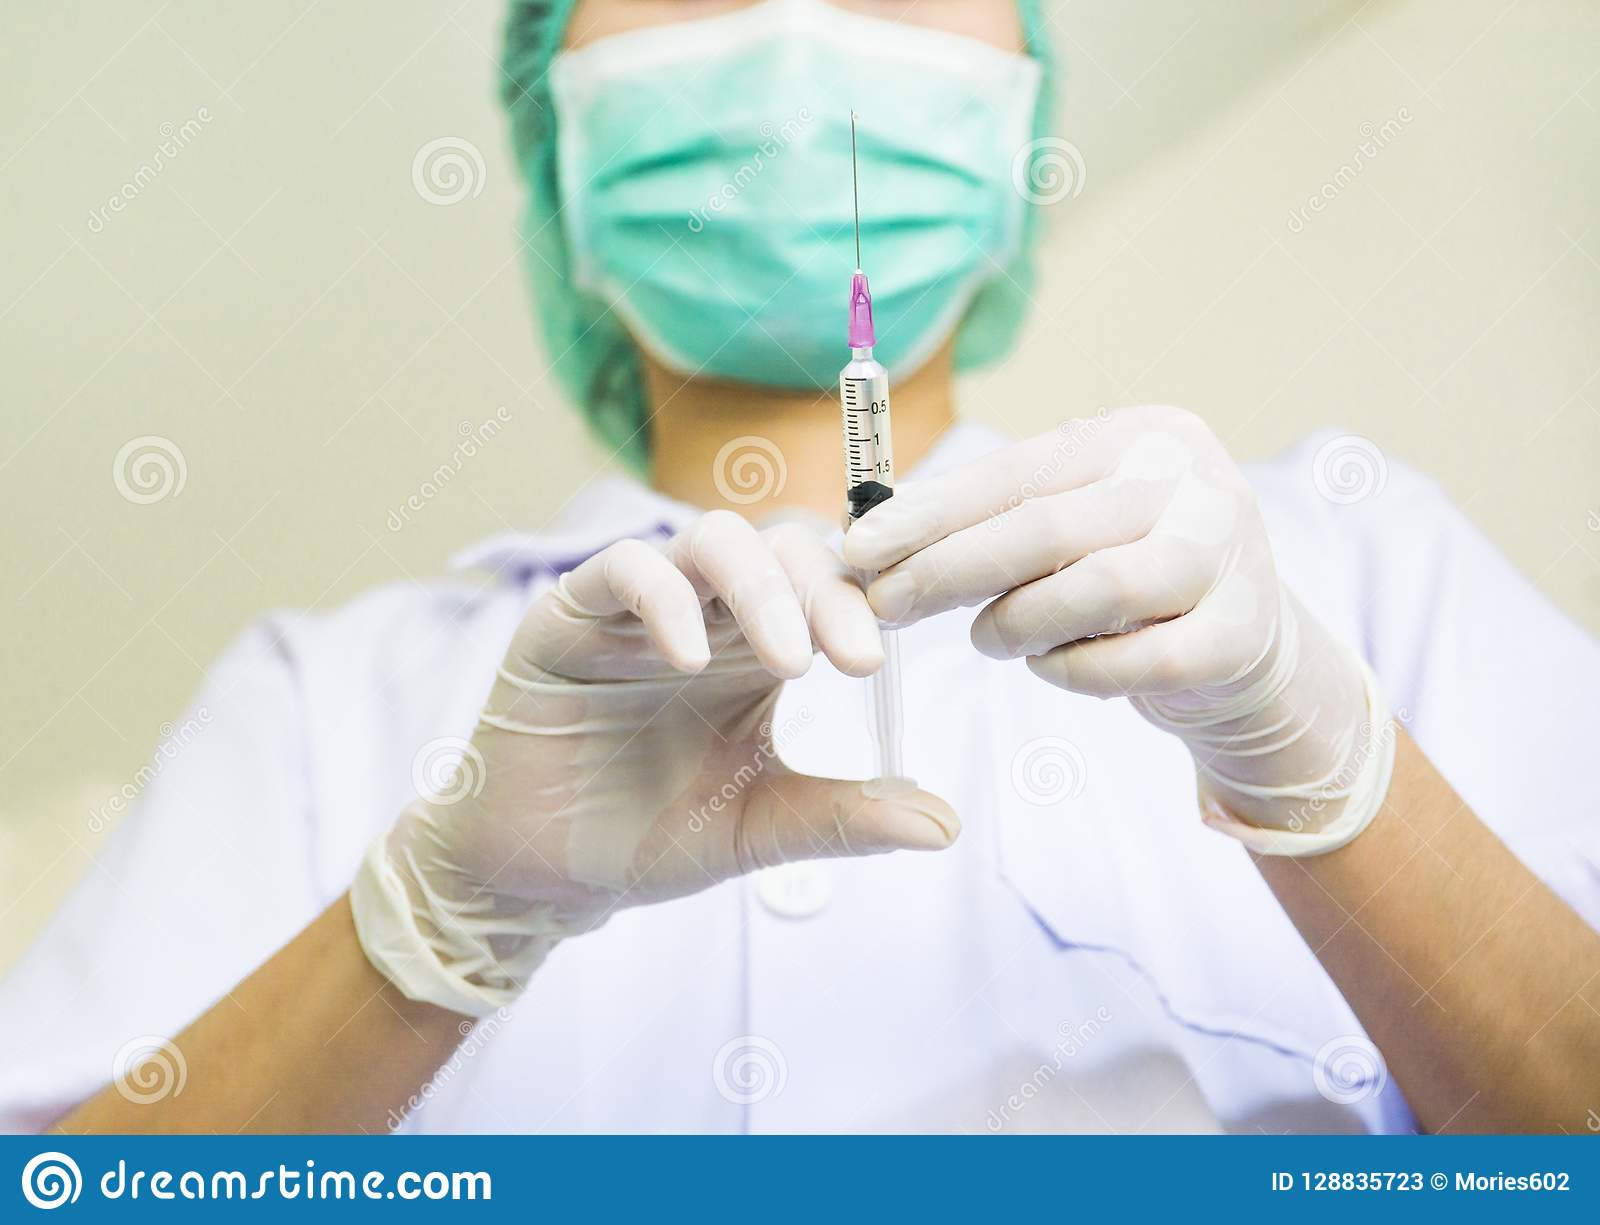mask: (514, 28, 1073, 377)
